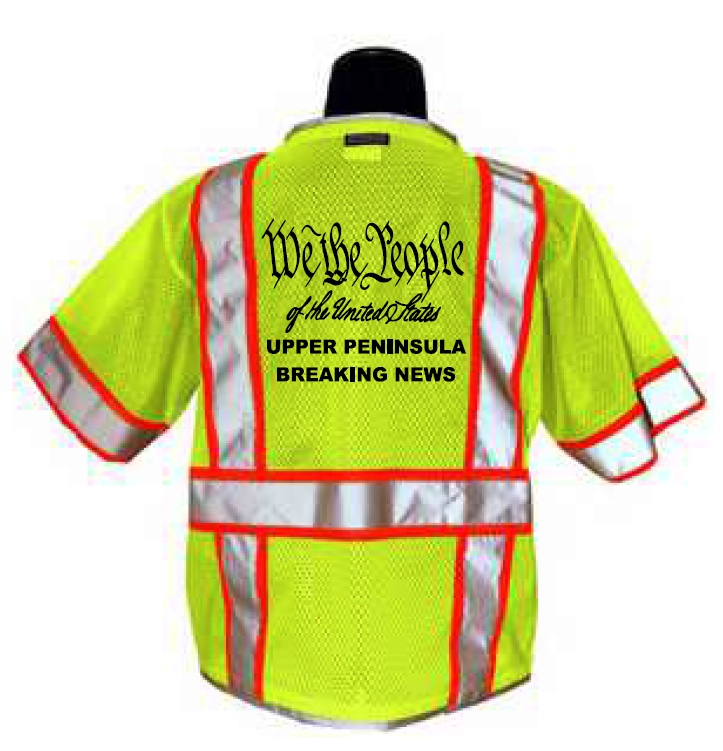safety vest: (16, 117, 709, 732)
